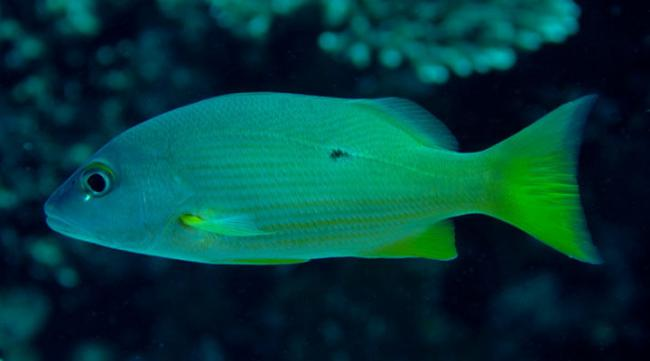fish: (42, 92, 604, 265)
